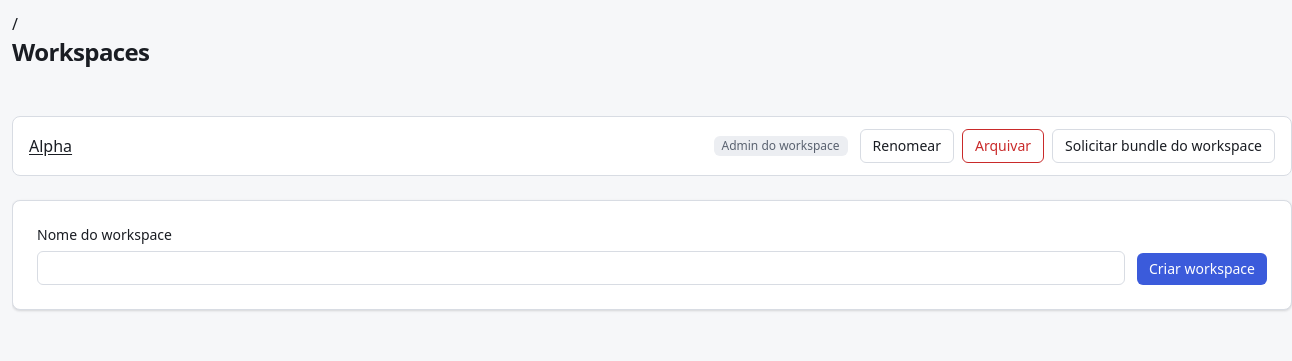
Scenario: WorkspaceListPage (NAV-01, NAV-06..08, NAV-13..23) › rename: a 409 shows the conflict message and never commits the new name (NAV-15)
Expected: the link "Alpha" is shown, [29,135,72,157]
Click the button "Renomear". click: x=907, y=146
box: [860,129,954,163]
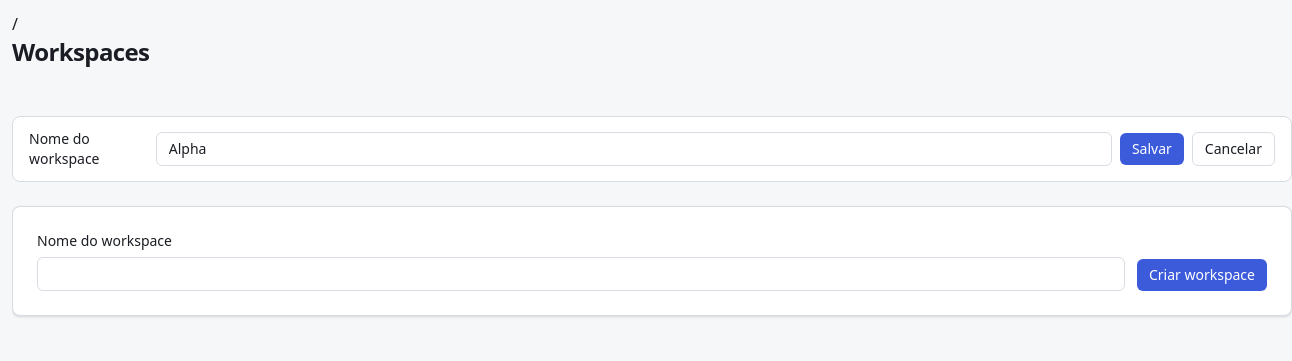
Replace the text in the 1st field labelled "Nome do workspace" with "Alpha 2". click: x=634, y=149
box: [156,132,1112,166]
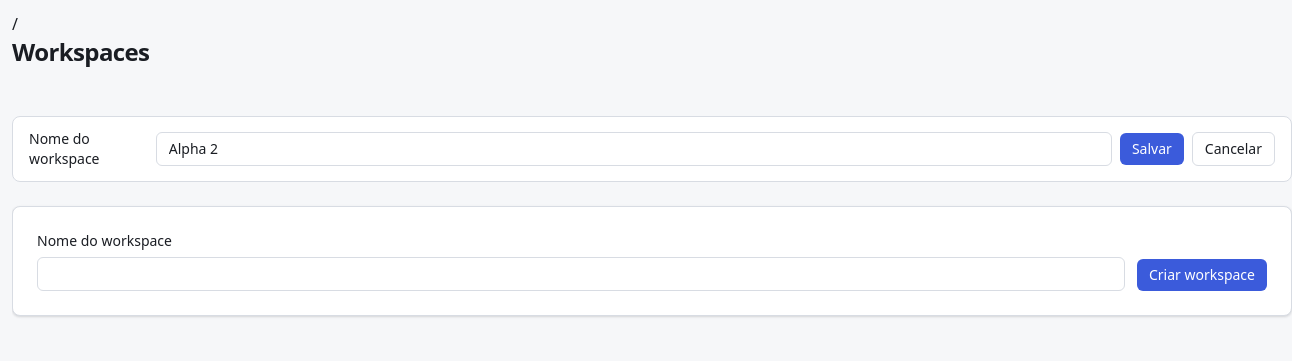
Click the button "Salvar". click: x=1152, y=149
box: [1120,133,1184,165]
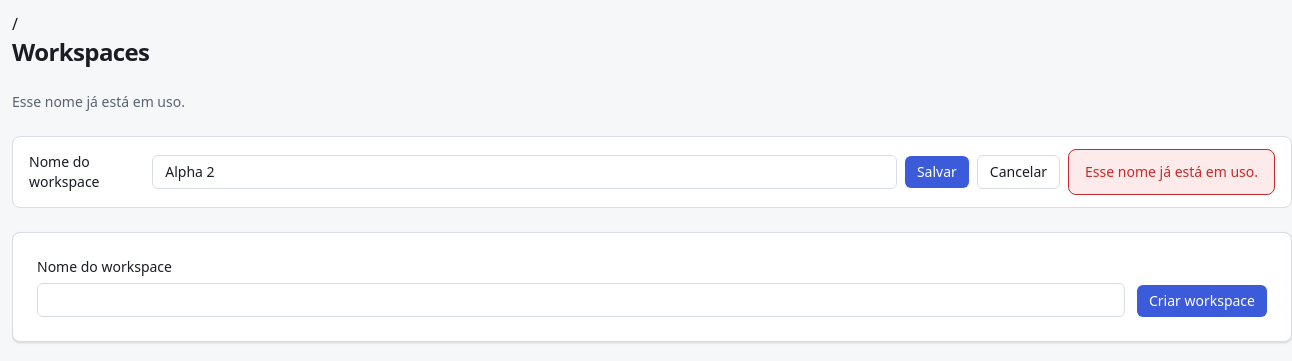
Expected: the 2nd text "Esse nome já está em uso." is shown, [1068,149,1275,195]
Click the button "Cancelar". click: x=1018, y=172
box: [977,155,1060,189]
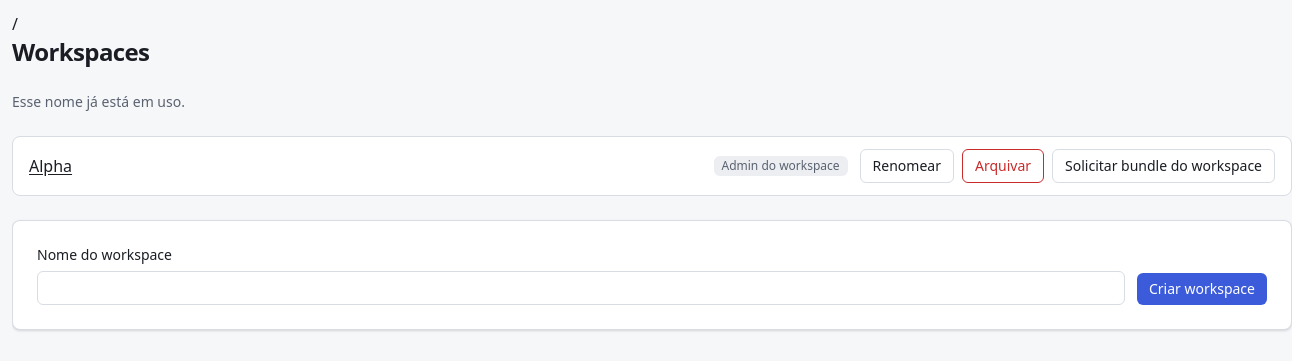
Expected: the link "Alpha" is shown, [29,155,72,177]
